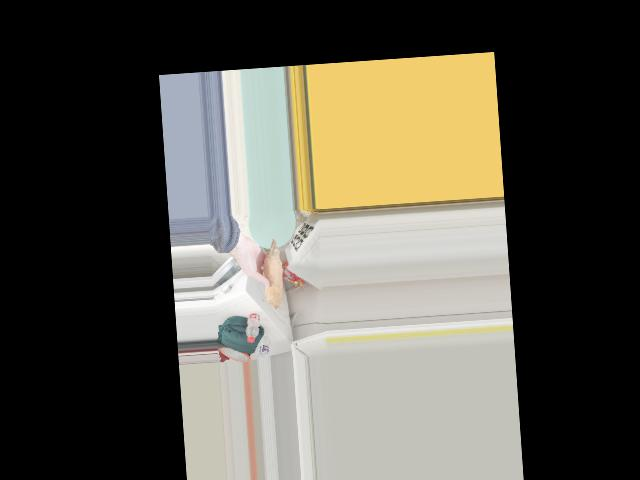sweet_potato: (259, 243, 284, 301)
